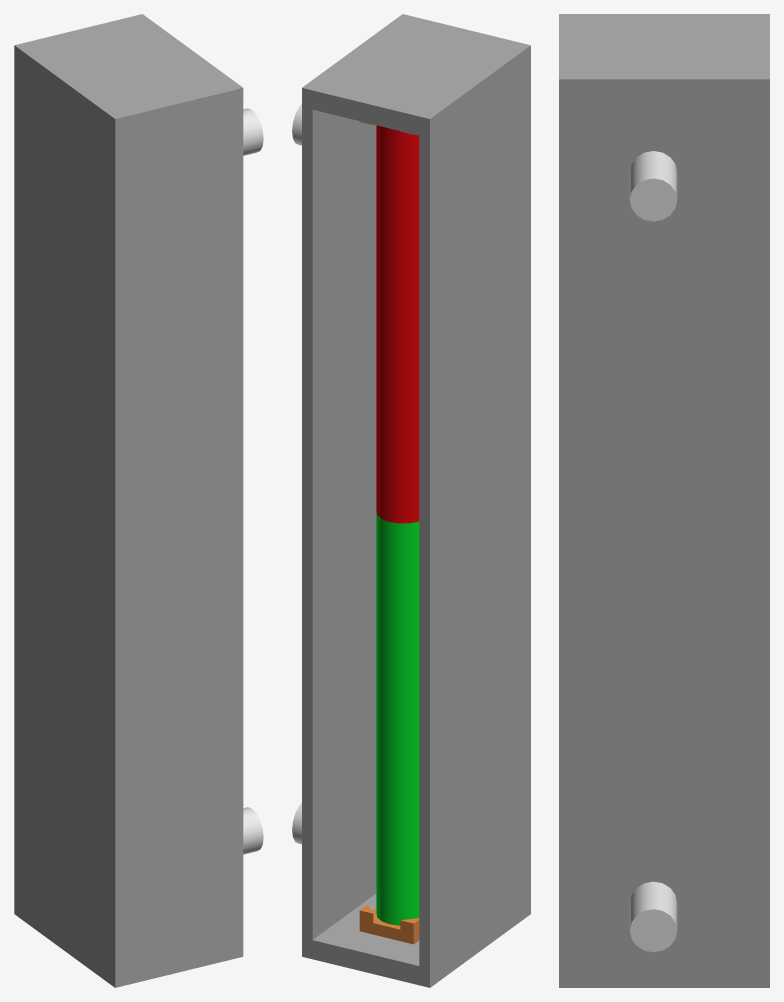
The model's file is benzyna 1.fbx.
3 views of the same model, side by side, from view 1: azimuth 30°, elevation 25°; view 2: azimuth 150°, elevation 25°; view 3: azimuth 270°, elevation 25° (orthographic). The views are drawn at different scales.
Parts seen in each view (by area): view 1: Cube.006, Cylinder.001, Cylinder.005; view 2: Cube.006, Cylinder.007, Cylinder.004, Cube.007; view 3: Cube.006, Cylinder.005, Cylinder.001.
Boxes of the visible parts, bbox=[...] form: Cube.006: bbox=[14, 14, 243, 987]; Cylinder.001: bbox=[243, 807, 263, 854]; Cylinder.005: bbox=[243, 108, 263, 155]; Cube.006: bbox=[302, 14, 530, 987]; Cylinder.007: bbox=[376, 511, 419, 925]; Cylinder.004: bbox=[376, 125, 419, 523]; Cube.007: bbox=[359, 121, 419, 944]; Cube.006: bbox=[559, 14, 769, 987]; Cylinder.005: bbox=[629, 151, 677, 221]; Cylinder.001: bbox=[629, 881, 677, 952].
Size of the model in its own units: 9.26 by 42.17 by 8.88.
